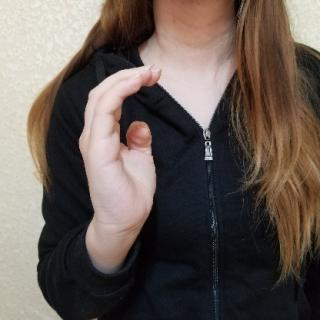JEEM: (72, 62, 178, 254)
